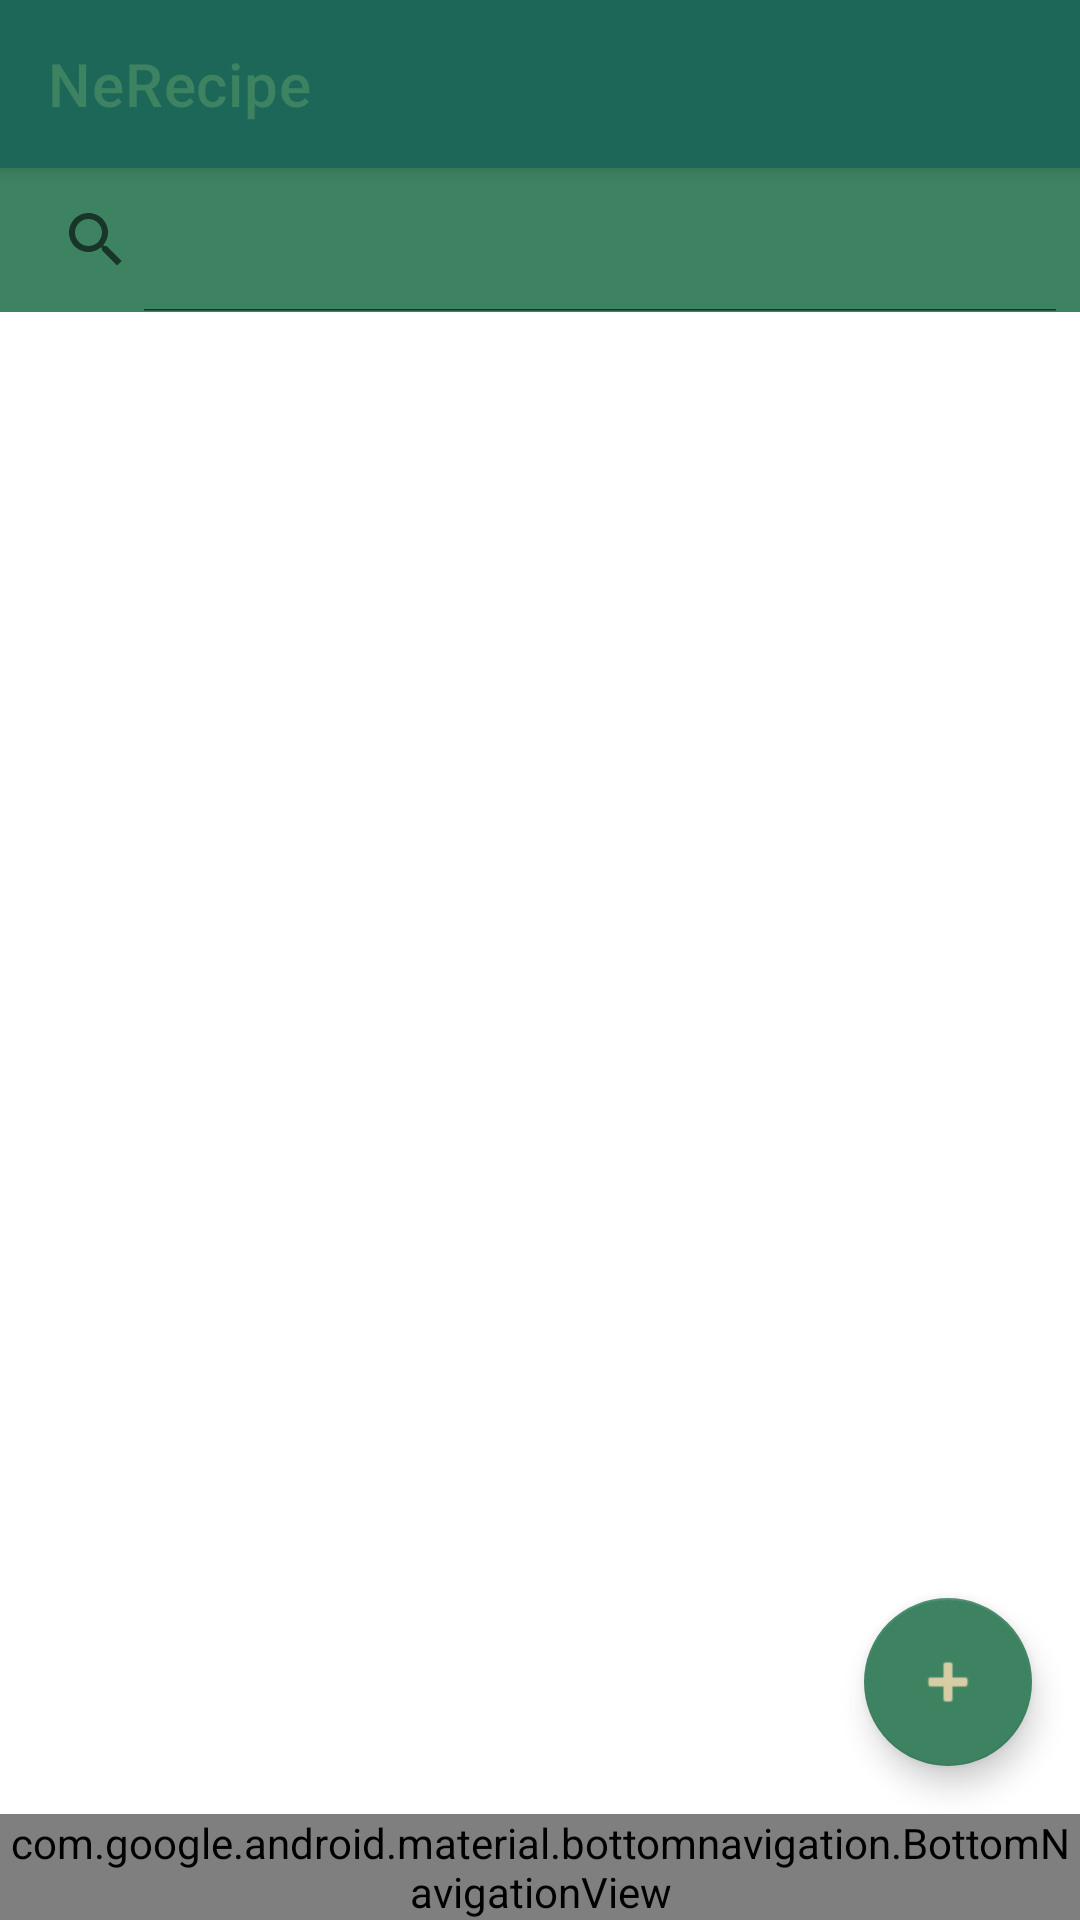

Icon bounding boxes for this 1080w x 1920h phone screenshot, format rect(x1, y1, x2, y2):
add: rect(864, 1598, 1032, 1766)
